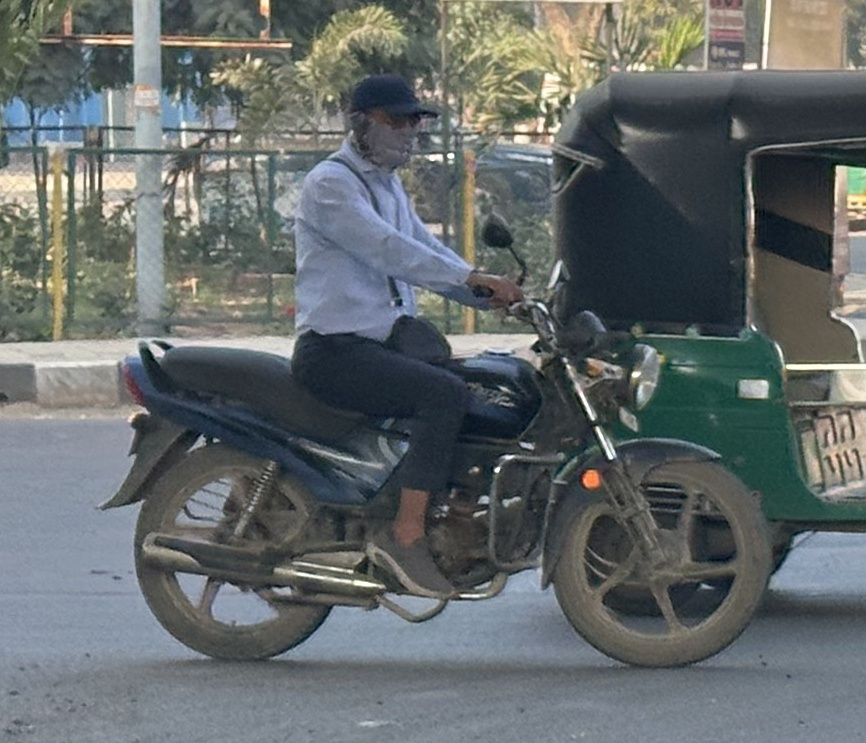BikeWithRider: (86, 66, 774, 675)
NoHelmet: (332, 68, 441, 173)
